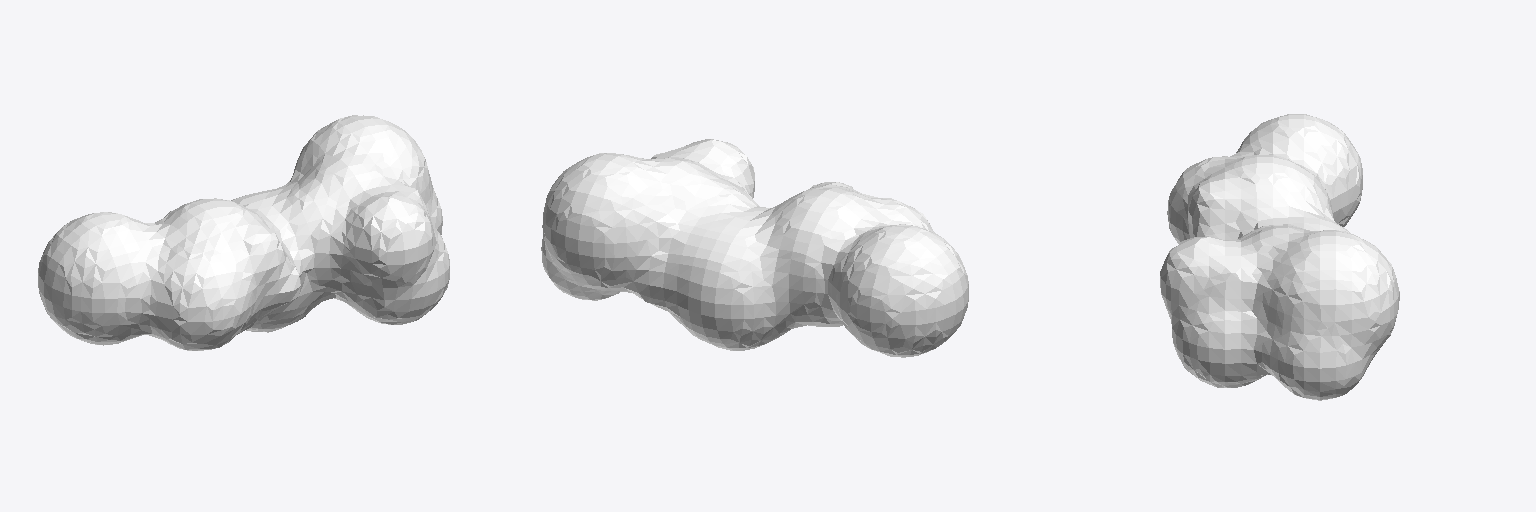
The model's file is cloud-sitting.obj.
3 renders of one model, left to right at view 1: azimuth 30°, elevation 25°; view 2: azimuth 150°, elevation 25°; view 3: azimuth 270°, elevation 25°, orthographic.
Visible parts, largest first — view 1: CloudSitting; view 2: CloudSitting; view 3: CloudSitting.
Boxes of the visible parts, box(x1,y1,x2,y2) form: CloudSitting: box(38, 115, 449, 350); CloudSitting: box(541, 139, 968, 357); CloudSitting: box(1160, 114, 1399, 400).
Bounding box in the file's own units: 26.3 × 10.49 × 13.63.